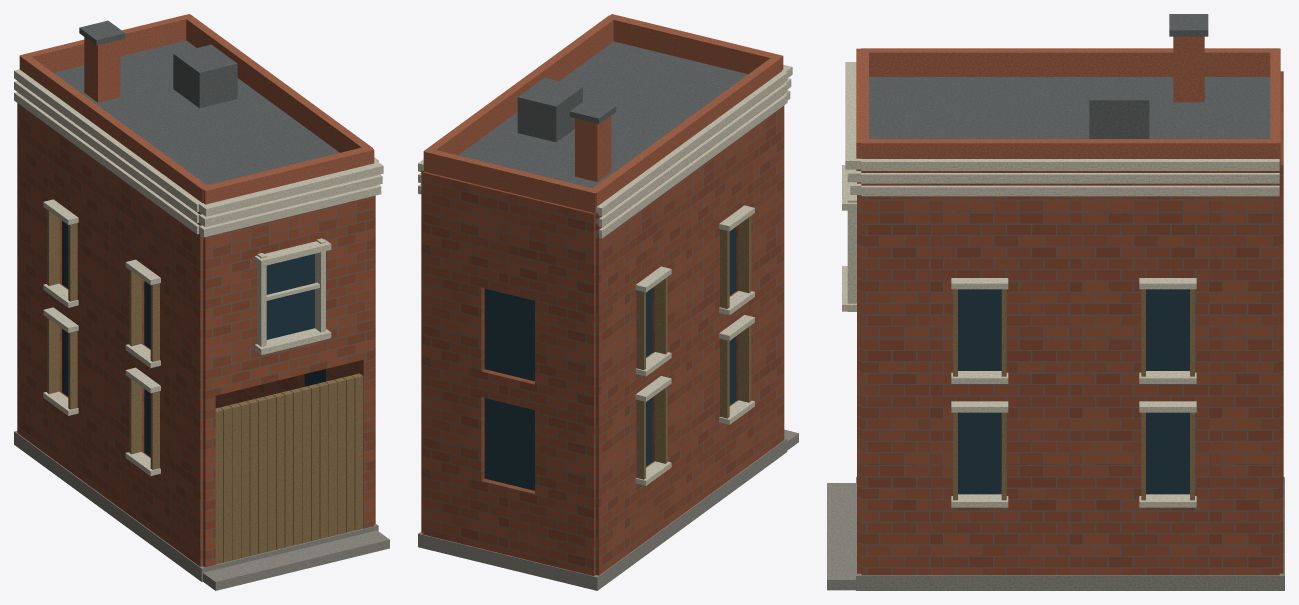
Rendered from VICT15_lod2.glb.
The picture shows the model from 3 angles, left to right: view 1: azimuth 30°, elevation 25°; view 2: azimuth 150°, elevation 25°; view 3: azimuth 270°, elevation 25°; orthographic projection. The views are drawn at different scales.
Visible parts, largest first — view 1: VICT15_LOD2; view 2: VICT15_LOD2; view 3: VICT15_LOD2.
Boxes of the visible parts, x1,y1,x2,y2 form: VICT15_LOD2: [14, 14, 389, 590]; VICT15_LOD2: [418, 14, 798, 590]; VICT15_LOD2: [827, 14, 1284, 590].
Bounding box in the file's own units: 3.71 × 7.85 × 6.57.
Materials: 8 (6 with a texture image).
